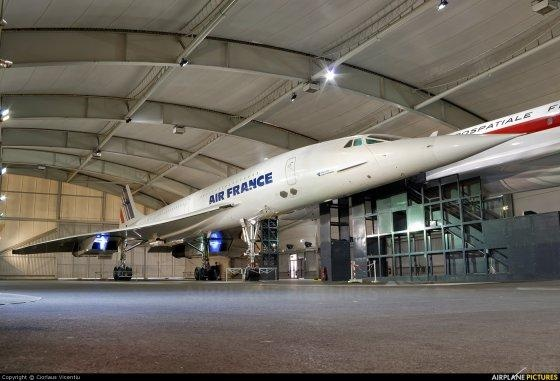airplane: (5, 119, 527, 277)
